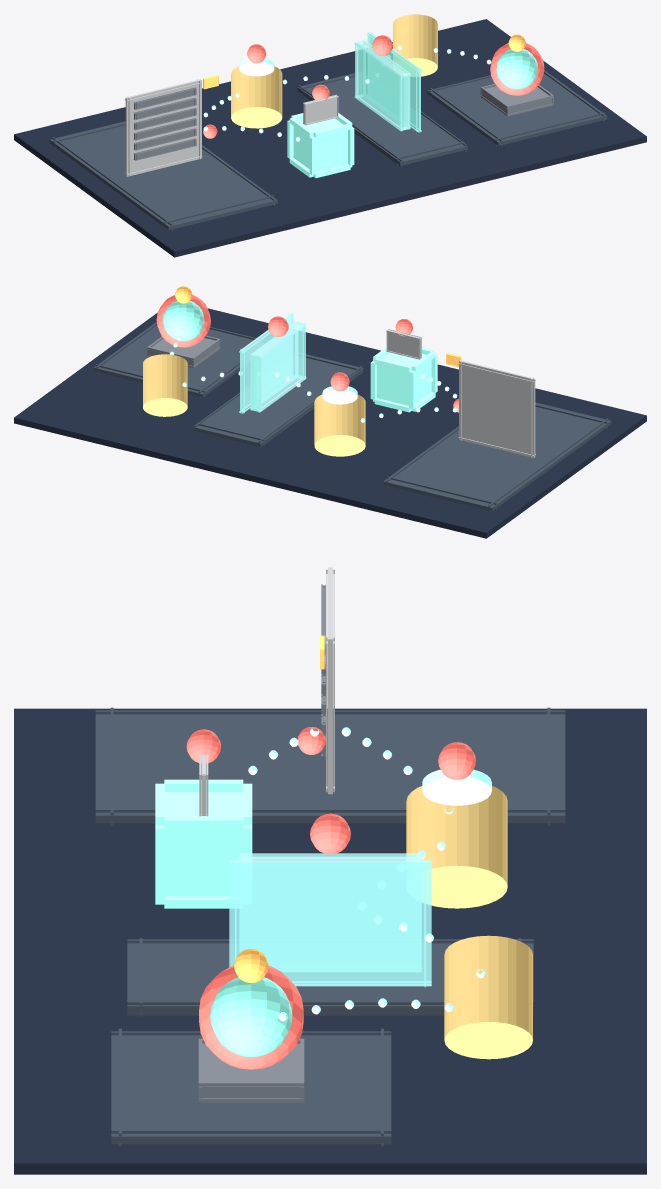
Rendered from cks-static-analysis.glb.
3 views of the same model, one above another, from view 1: azimuth 30°, elevation 25°; view 2: azimuth 150°, elevation 25°; view 3: azimuth 270°, elevation 25° (orthographic). The views are drawn at different scales.
Parts seen in each view (by area): view 1: sa-floor, git-repo, ns-payments, ci-pipeline, kube-linter, ci-gate, manifest-file, kubesec, sim-gate-block, kube-apiserver, image-layer, payments-pod (+9 smaller); view 2: sa-floor, git-repo, manifest-file, ci-pipeline, ns-payments, kube-linter, ci-gate, kubesec, kube-apiserver, sim-gate-block, payments-pod, image-layer (+3 smaller); view 3: sa-floor, git-repo, ns-payments, sim-gate-block, ci-gate, ci-pipeline, kube-linter, kube-apiserver, kubesec, payments-pod, image-layer, sim-privileged-flare (+6 smaller).
Boxes of the visible parts, left/top/right/bottom form: sa-floor: left=14, top=19, right=646, bottom=257; git-repo: left=49, top=121, right=277, bottom=231; ns-payments: left=427, top=70, right=607, bottom=146; ci-pipeline: left=297, top=72, right=467, bottom=167; kube-linter: left=287, top=113, right=354, bottom=178; ci-gate: left=354, top=39, right=410, bottom=131; manifest-file: left=125, top=79, right=202, bottom=176; kubesec: left=231, top=66, right=282, bottom=128; sim-gate-block: left=366, top=31, right=421, bottom=132; kube-apiserver: left=393, top=14, right=437, bottom=76; image-layer: left=480, top=84, right=553, bottom=116; payments-pod: left=496, top=49, right=537, bottom=89; sa-floor: left=14, top=308, right=646, bottom=538; git-repo: left=383, top=402, right=611, bottom=512; manifest-file: left=458, top=360, right=535, bottom=457; ci-pipeline: left=193, top=353, right=363, bottom=448; ns-payments: left=94, top=322, right=267, bottom=398; kube-linter: left=370, top=347, right=437, bottom=412; ci-gate: left=250, top=321, right=306, bottom=412; kubesec: left=314, top=394, right=365, bottom=456; kube-apiserver: left=143, top=354, right=187, bottom=416; sim-gate-block: left=239, top=313, right=294, bottom=413; payments-pod: left=163, top=301, right=204, bottom=341; image-layer: left=147, top=335, right=220, bottom=368; sa-floor: left=14, top=708, right=646, bottom=1174; git-repo: left=95, top=707, right=565, bottom=825; ns-payments: left=111, top=1028, right=391, bottom=1146; sim-gate-block: left=229, top=859, right=431, bottom=987; ci-gate: left=239, top=853, right=421, bottom=971; ci-pipeline: left=127, top=938, right=533, bottom=1016; kube-linter: left=155, top=779, right=252, bottom=908; kube-apiserver: left=444, top=935, right=532, bottom=1059; kubesec: left=406, top=786, right=507, bottom=908; payments-pod: left=210, top=977, right=292, bottom=1057; image-layer: left=198, top=1038, right=304, bottom=1102; sim-privileged-flare: left=199, top=965, right=303, bottom=1069.
Size of what is drawn, in the model's own units: 6.8 by 1.31 by 4.
